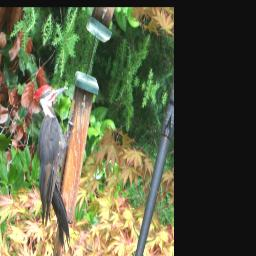Woodpecker: (5, 70, 102, 253)
